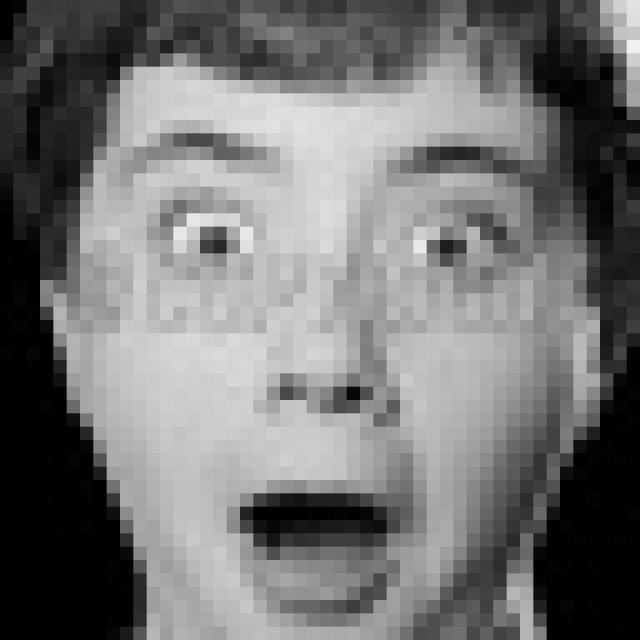surprise: (98, 119, 554, 622)
